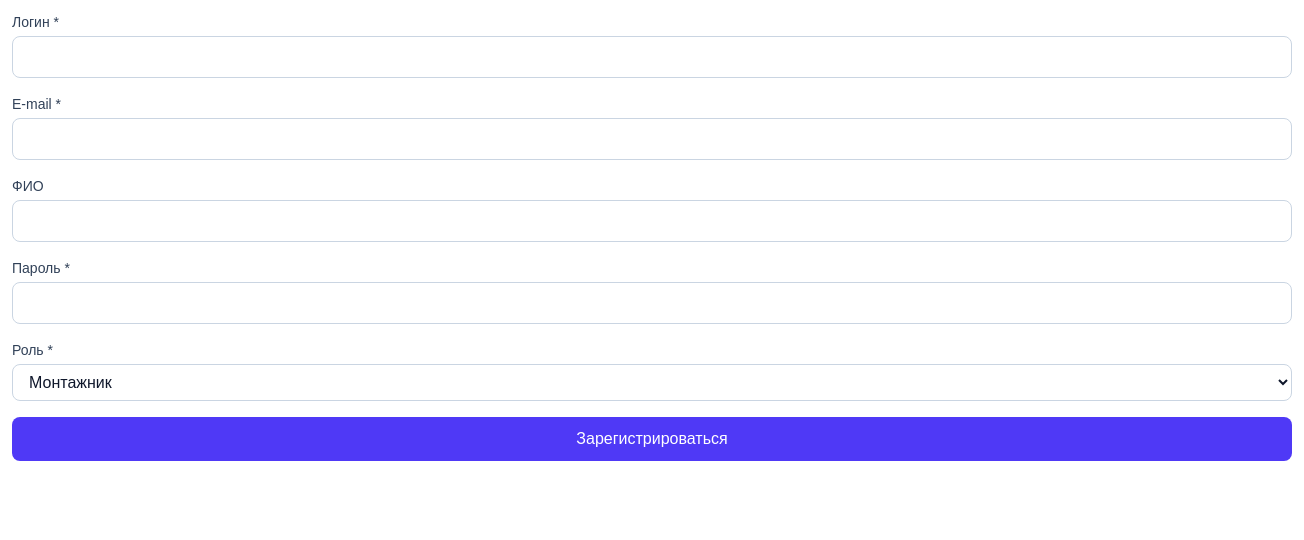
RegisterForm (#40) › показывает ошибку при 422
In the field labelled "Логин *": (652, 57) [12,36,1292,78], type "admin"
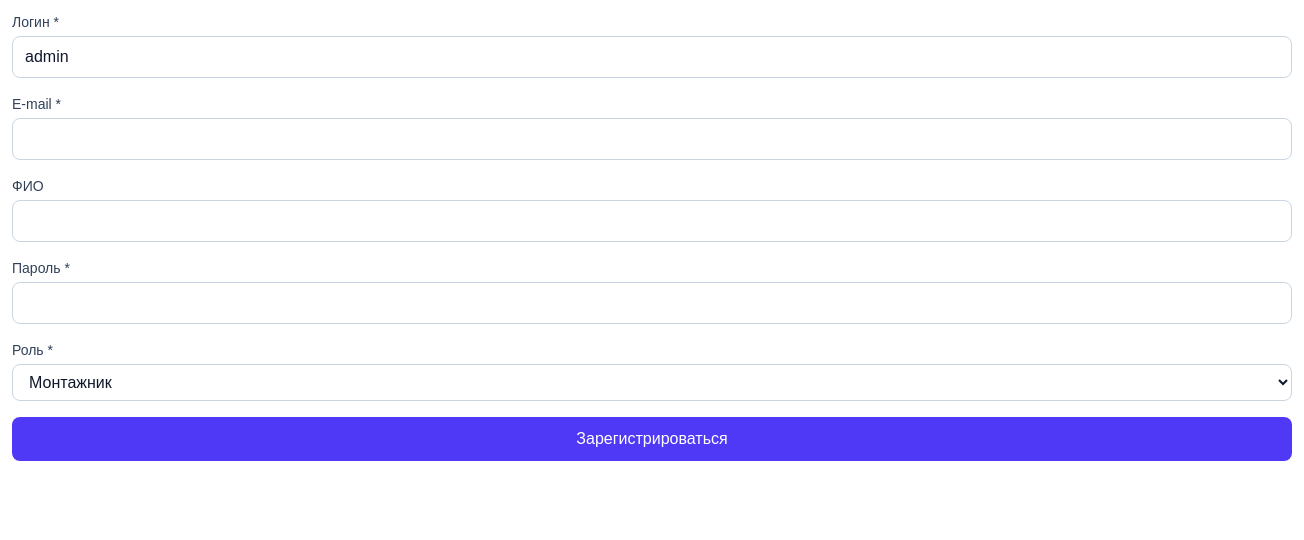
In the field labelled "E-mail *": (652, 139) [12,118,1292,160], type "new@test.ru"
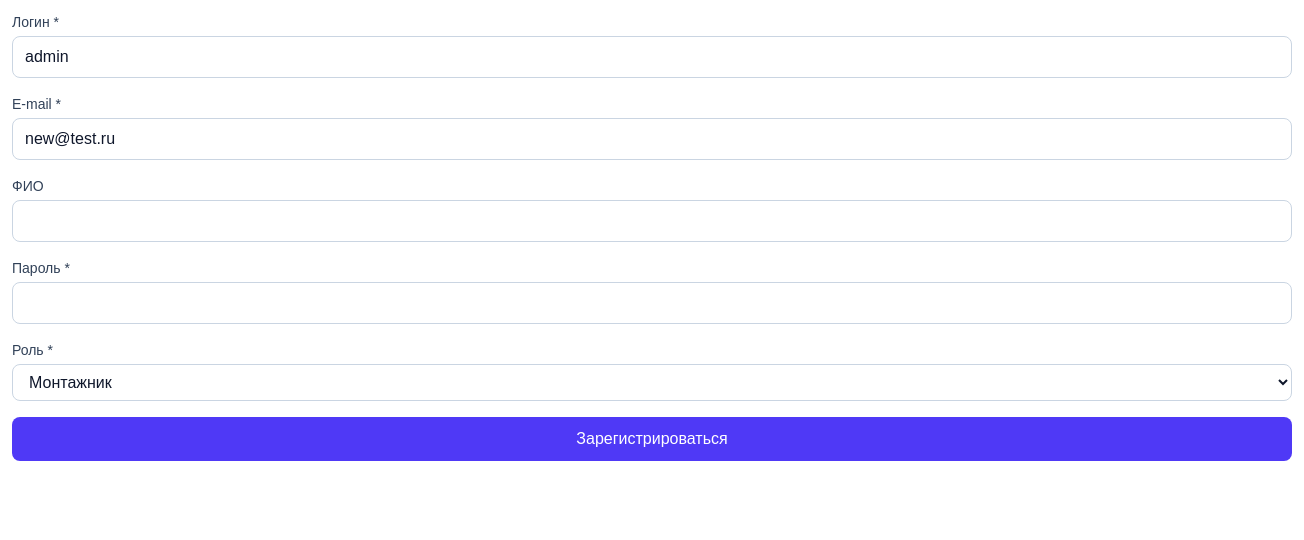
In the password field labelled "Пароль *": (652, 303) [12,282,1292,324], type "secret"
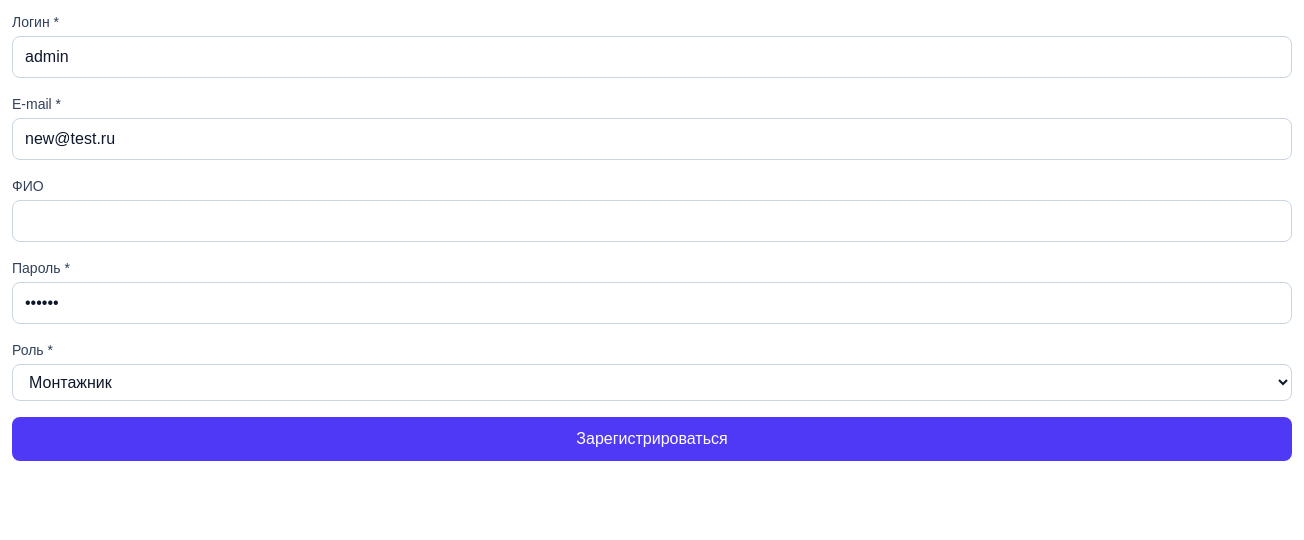
Click the button "Зарегистрироваться": (652, 439) [12,417,1292,461]
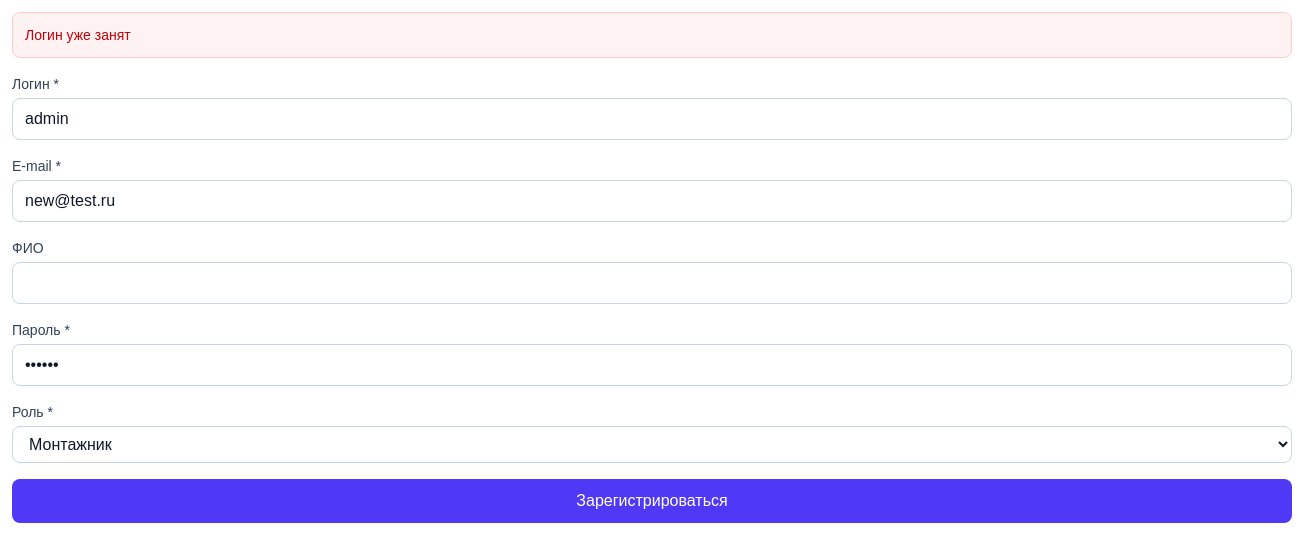
expect the text "Логин уже занят" is shown: met, box [12,12,1292,58]
